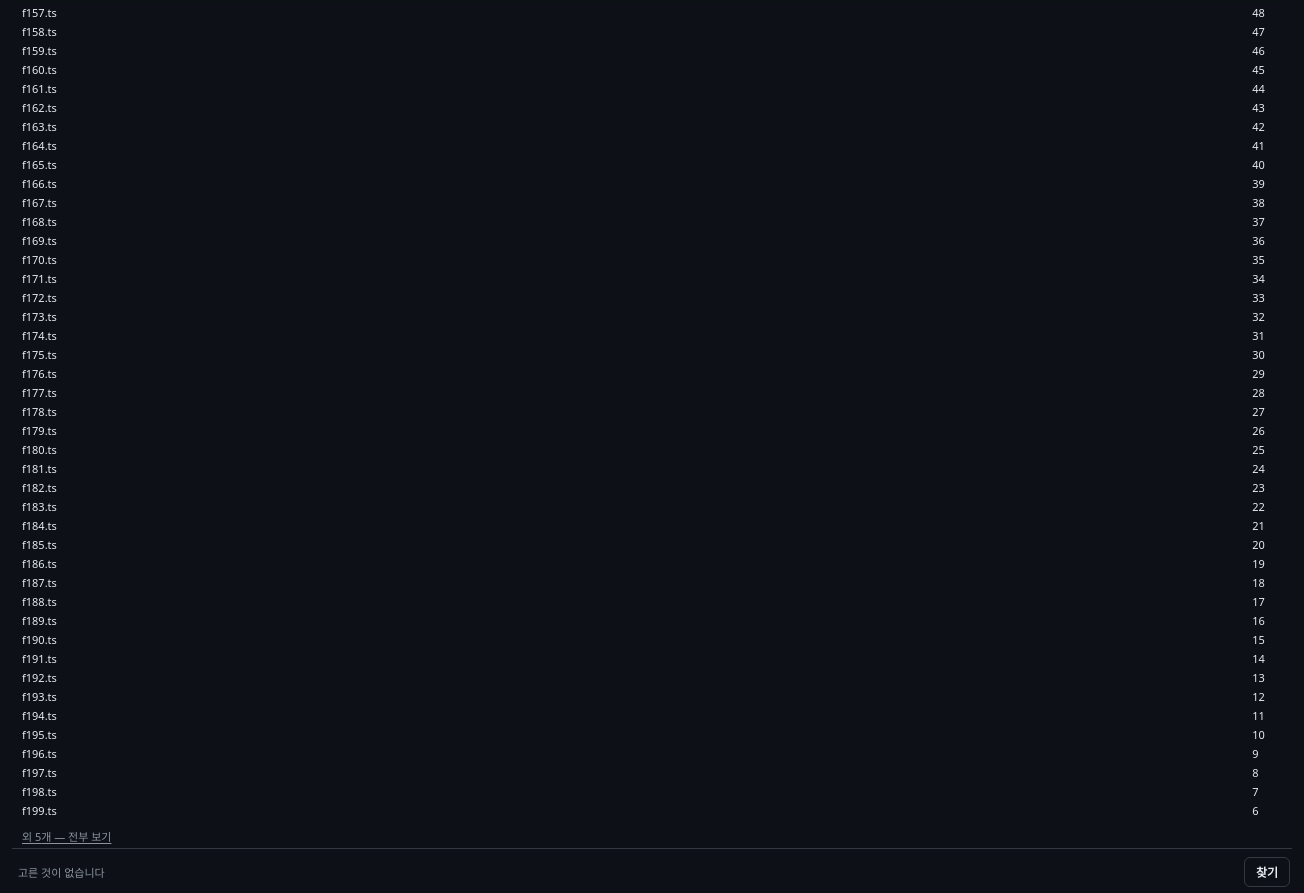
Test: 전부 보기 › 누르면 전부 그린다
(page scrolled)
Click the button "외 5개 — 전부 보기" at (76, 836), box [12,824,1292,848]
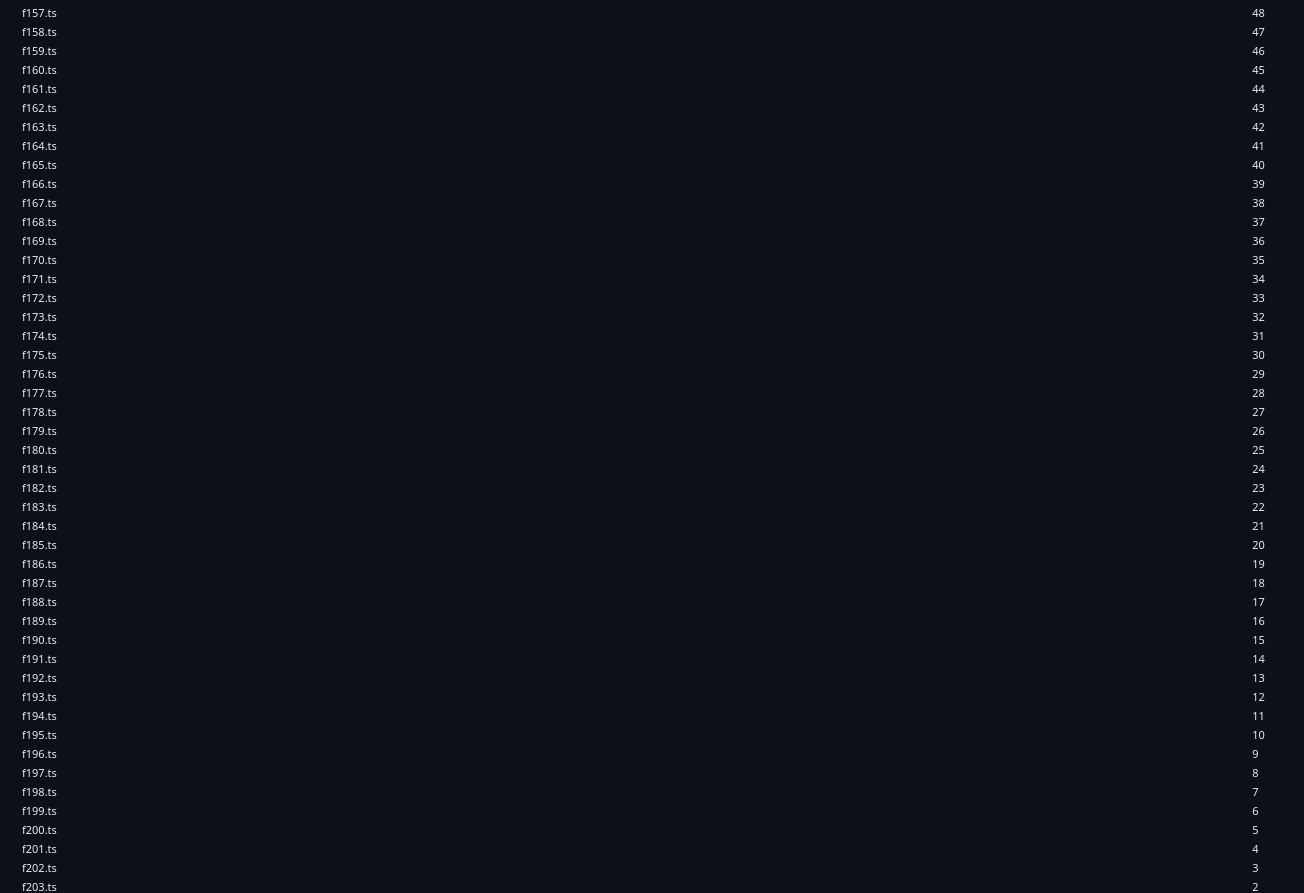
Now the button "전부 보기" is gone
